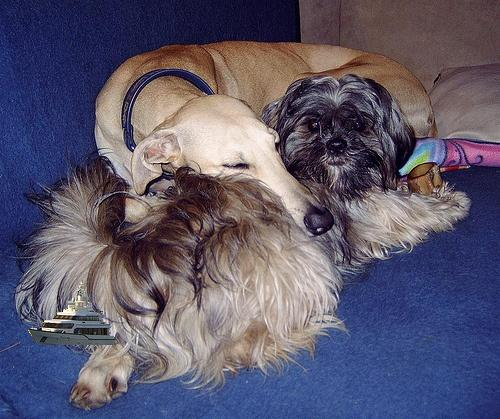tampered: (29, 280, 115, 345)
